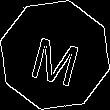M_N: (26, 25, 84, 85)
